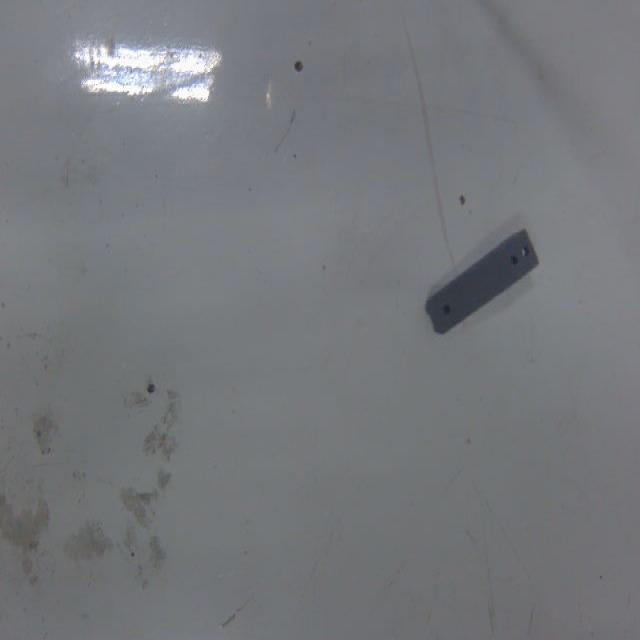grey: (422, 228, 538, 336)
head: (441, 302, 450, 316)
